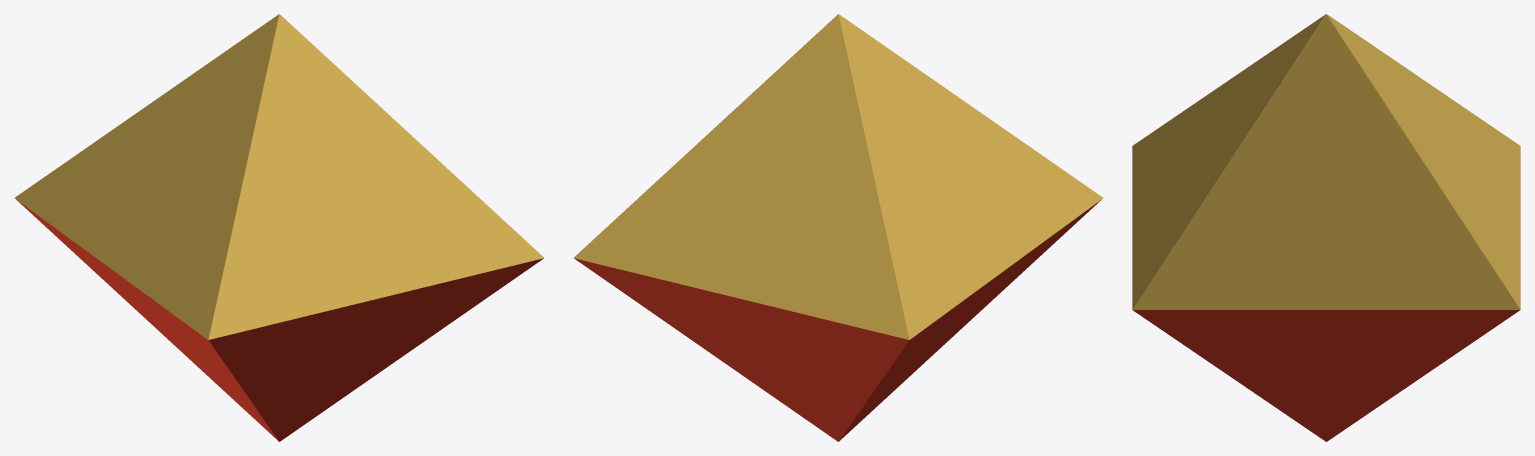
The model's file is mun.fbx.
3 views of the same model, side by side, from view 1: azimuth 30°, elevation 25°; view 2: azimuth 150°, elevation 25°; view 3: azimuth 270°, elevation 25° (orthographic).
Parts seen in each view (by area): view 1: mun; view 2: mun; view 3: mun.
Boxes of the visible parts, x1=… form: mun: x1=14, y1=14, x2=544, y2=441; mun: x1=573, y1=14, x2=1103, y2=441; mun: x1=1132, y1=14, x2=1520, y2=441.
Bounding box in the file's own units: 200 × 243 × 200.
1 material, 1 textured.
